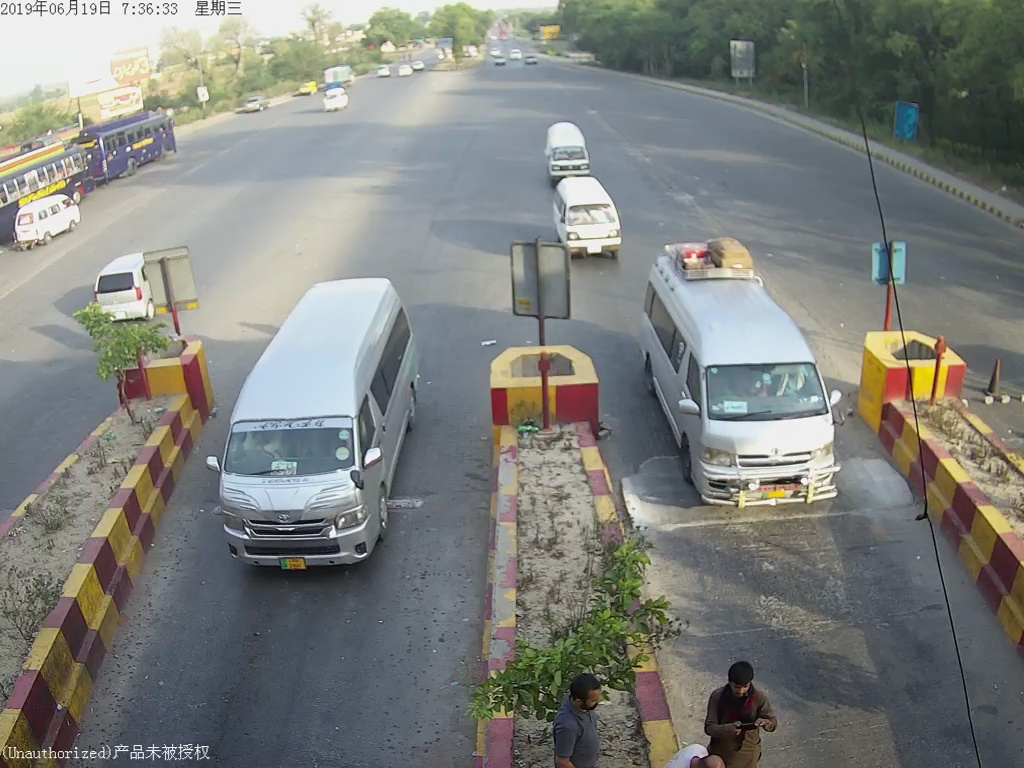Cat-1: (553, 173, 626, 262), (544, 120, 593, 182)
Cat-2: (215, 268, 422, 573), (643, 247, 850, 512)
